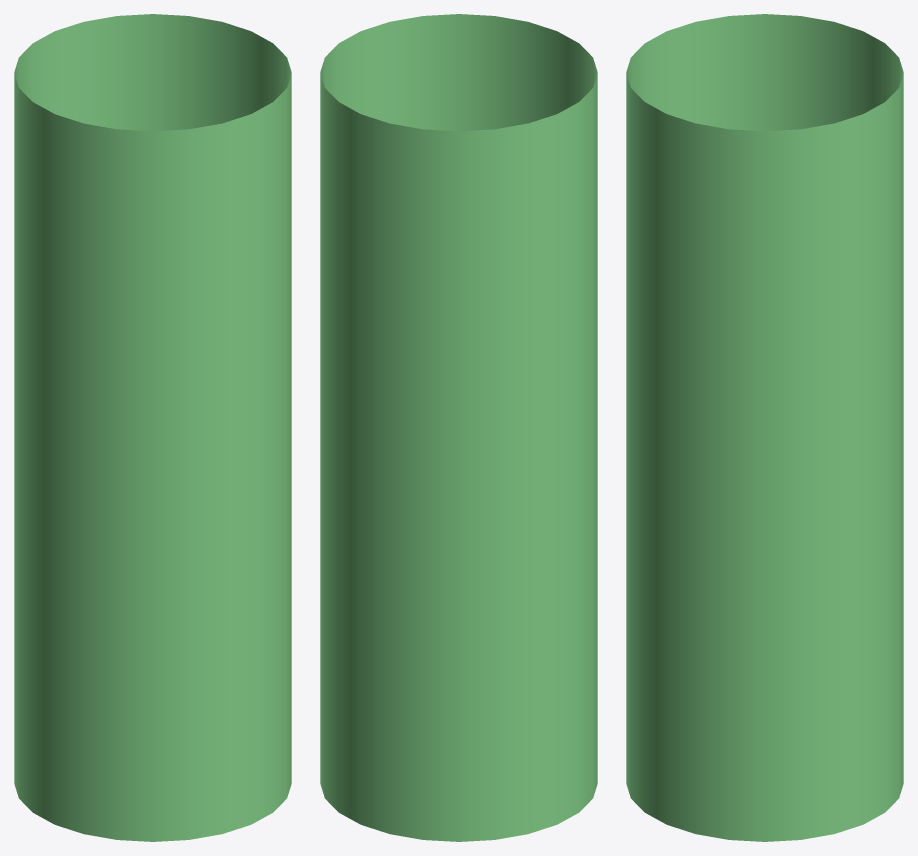
The model's file is pipe.fbx.
3 views of the same model, side by side, from view 1: azimuth 30°, elevation 25°; view 2: azimuth 150°, elevation 25°; view 3: azimuth 270°, elevation 25° (orthographic).
Parts seen in each view (by area): view 1: pipe; view 2: pipe; view 3: pipe.
Boxes of the visible parts, x1,y1,x2,y2 form: pipe: [14, 14, 291, 841]; pipe: [320, 14, 597, 841]; pipe: [626, 14, 903, 841].
Size of the model in its own units: 106 by 300 by 106.
